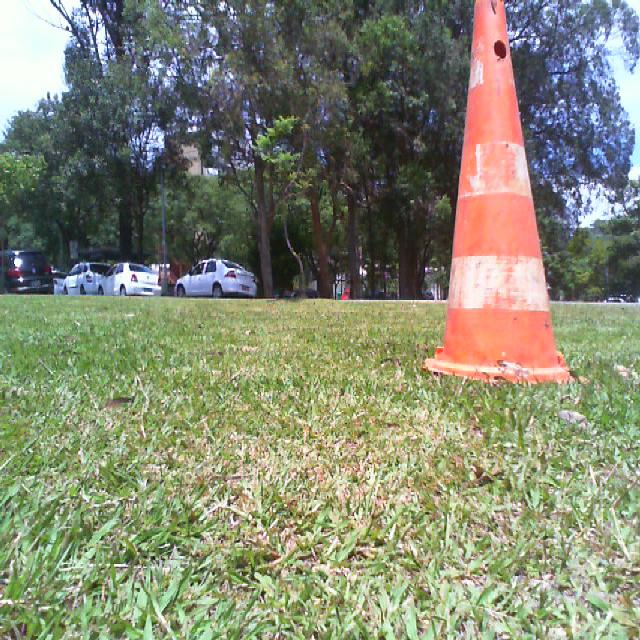cone: (422, 0, 576, 383)
